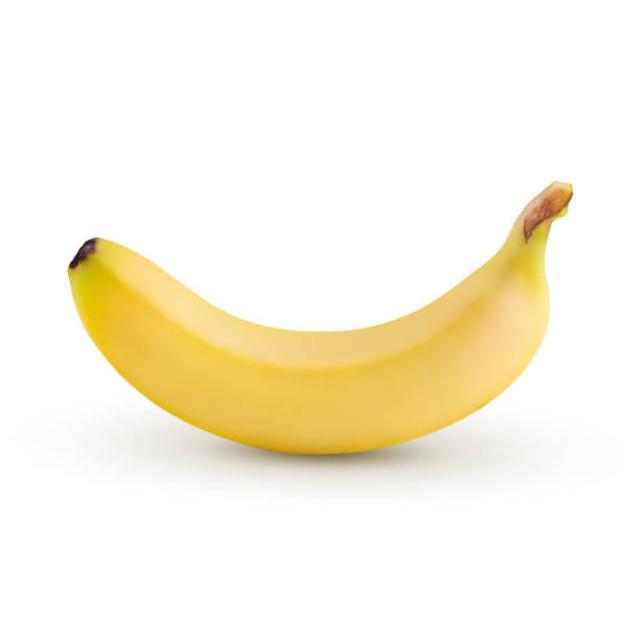Ripe: (63, 192, 556, 458)
